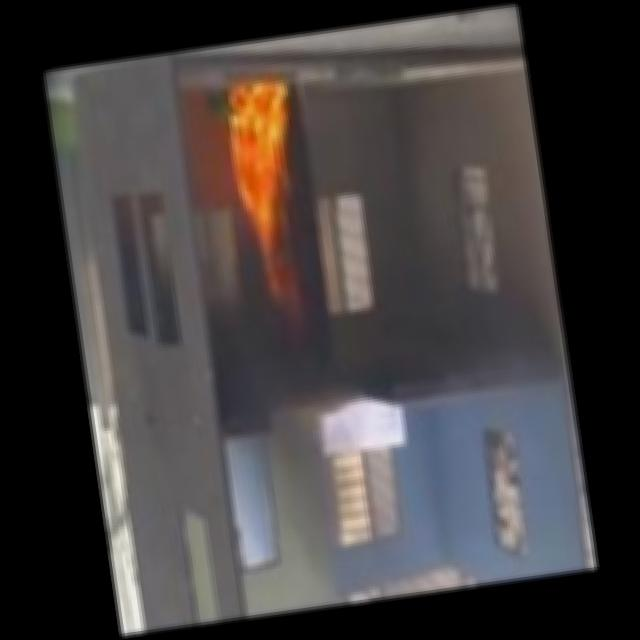fire: (196, 59, 318, 290)
